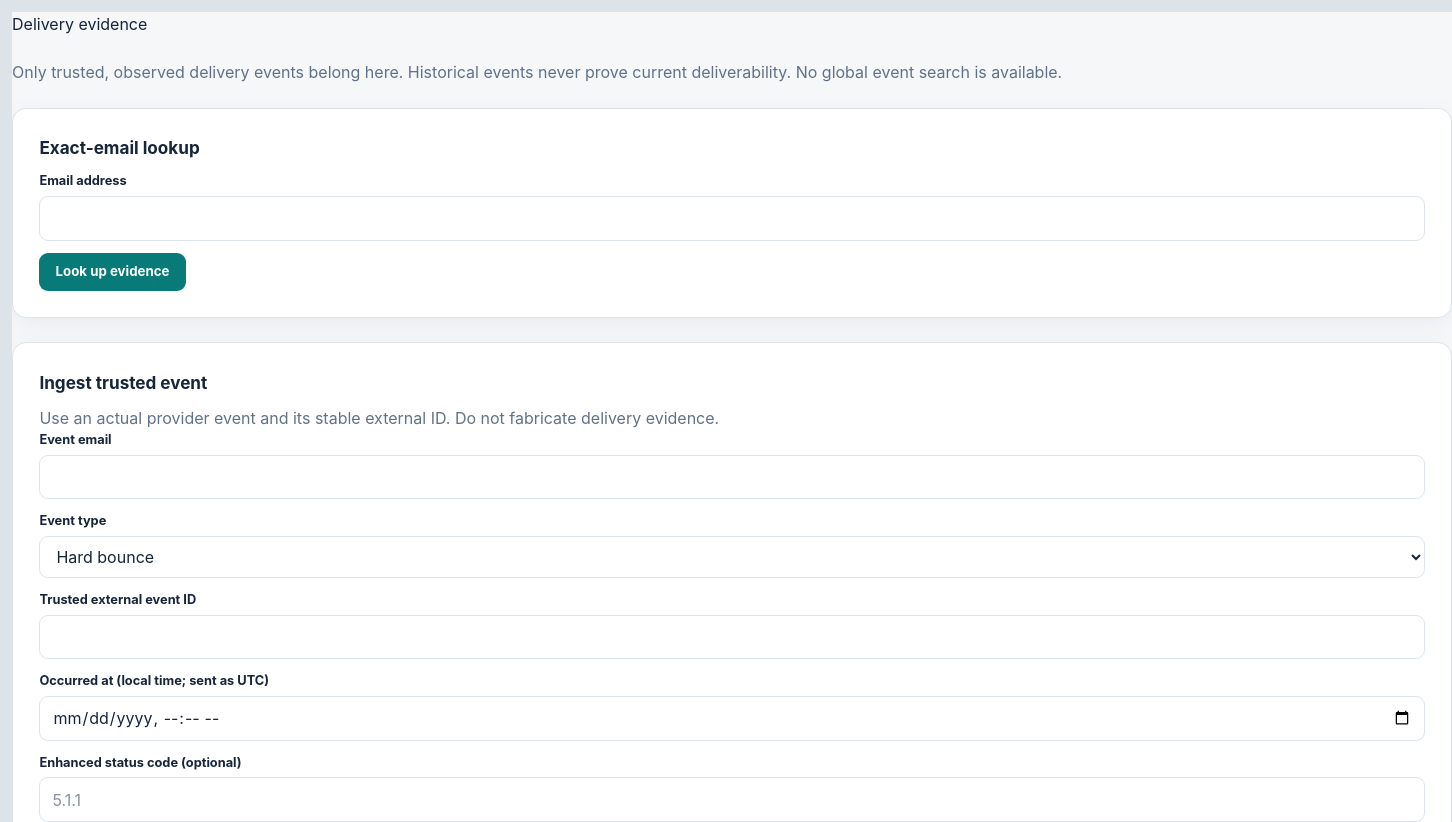
Scenario: EvidencePage › shows NONE and UNAVAILABLE without treating either as current deliverability
Type "person@example.test" into the field labelled "Email address". click: (732, 218)
box: [39,196,1425,241]
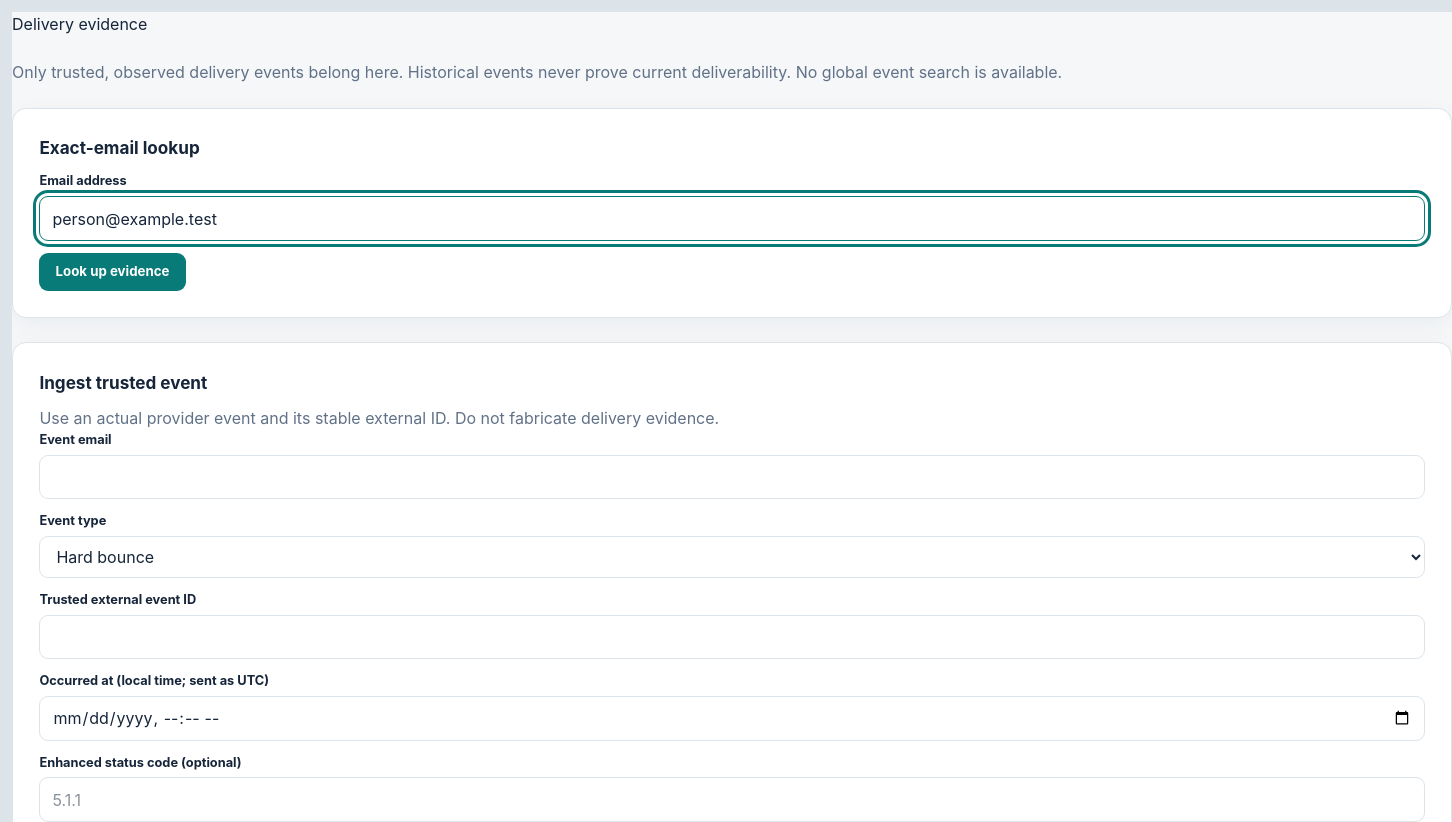
Click the button "Look up evidence". click: (112, 272)
box: [39,253,186,291]
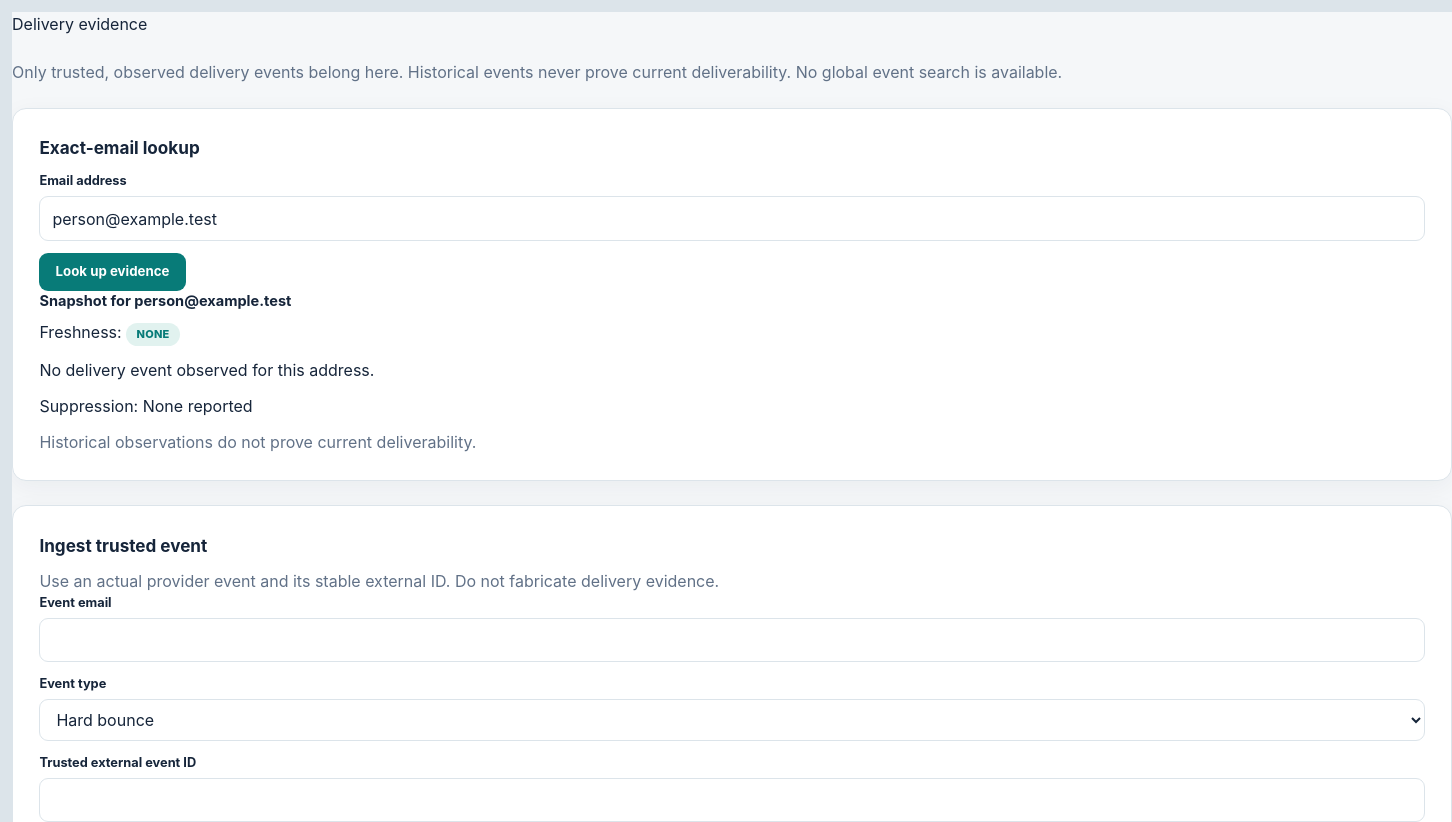
Check: the text "No delivery event observed for this address." is shown, box [39,360,374,380]
Click the button "Look up evidence". click: (112, 272)
box: [39,253,186,291]
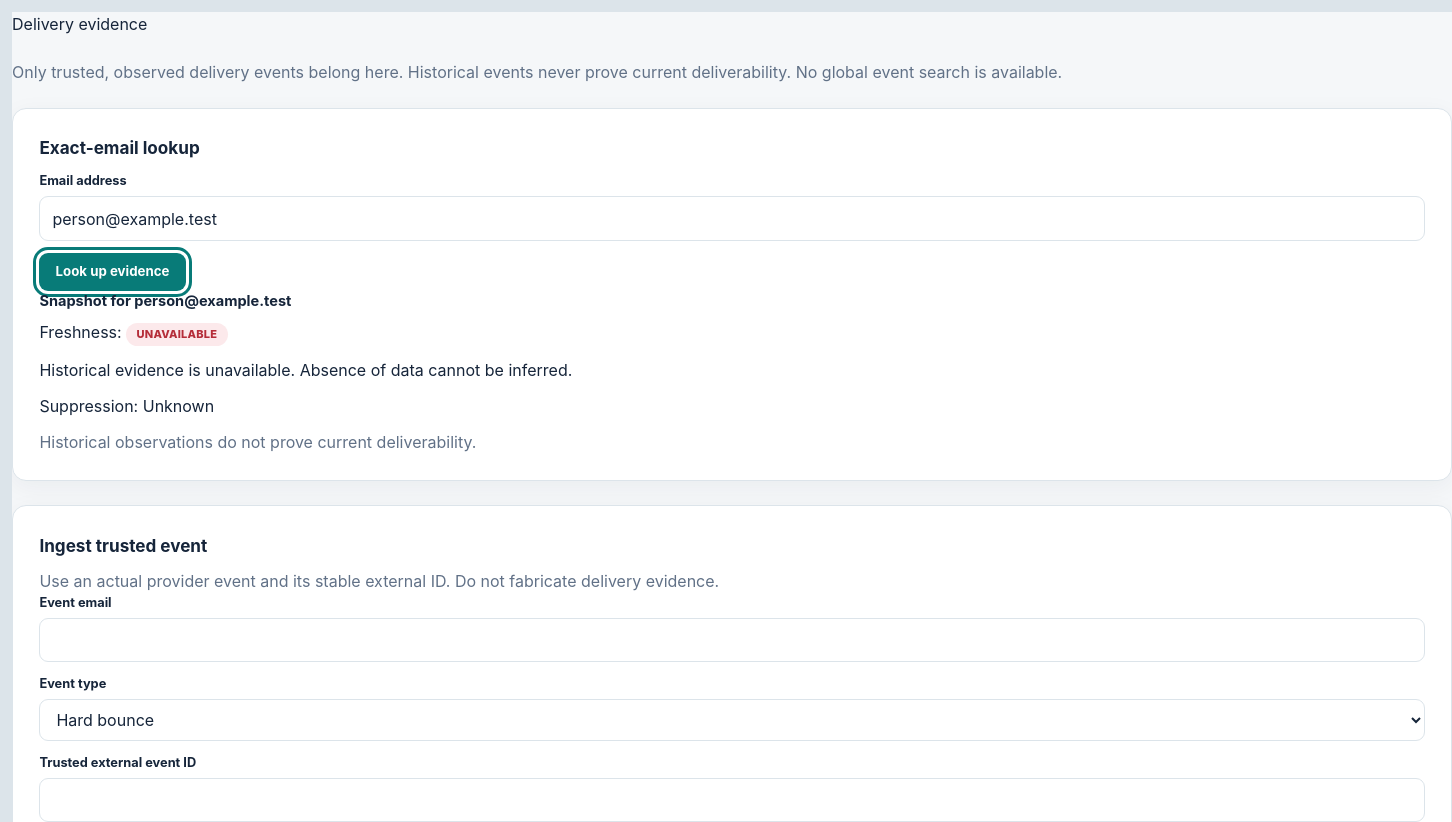
Check: the text "Absence of data cannot be inferred" is shown, box [39,360,572,380]
